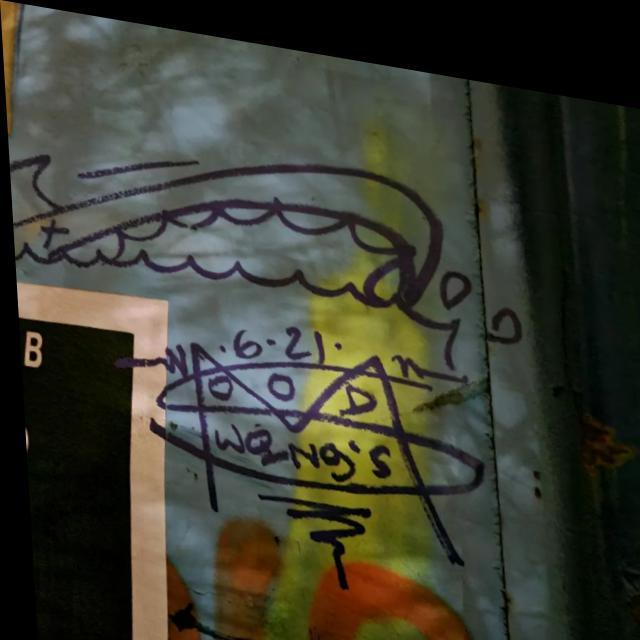-: (4, 98, 550, 601), (14, 301, 71, 498)
